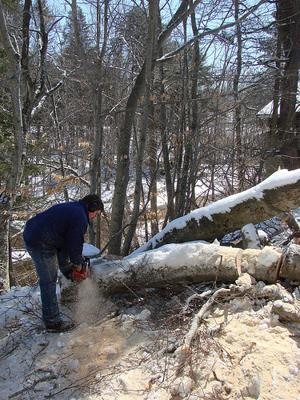person: (23, 193, 106, 333)
